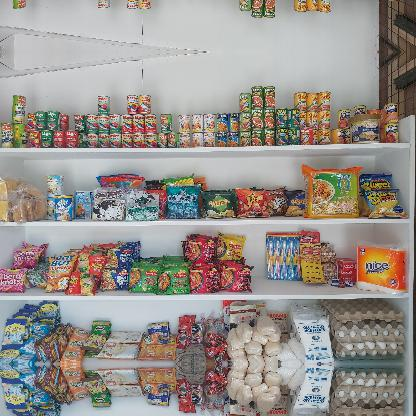Lady-s-Choice: (348, 114, 380, 142)
